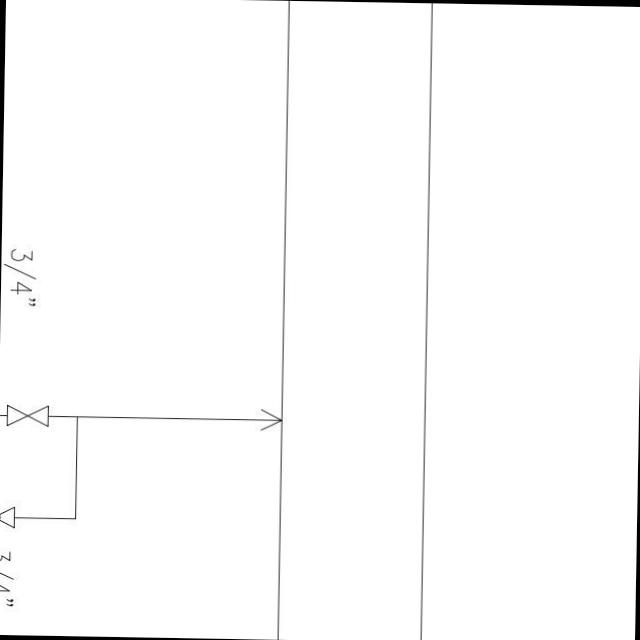GV: (3, 402, 54, 428)
